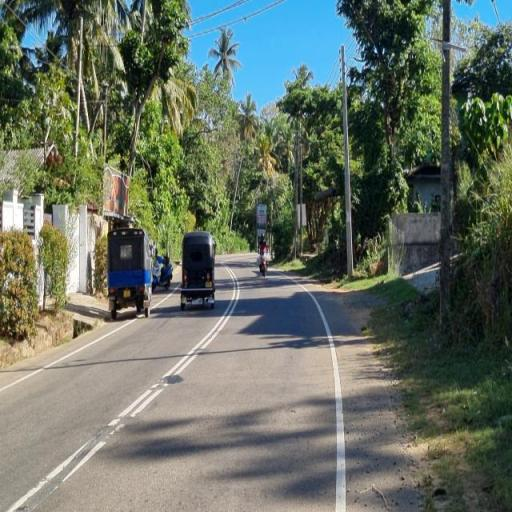double_white_line: (108, 266, 238, 433)
